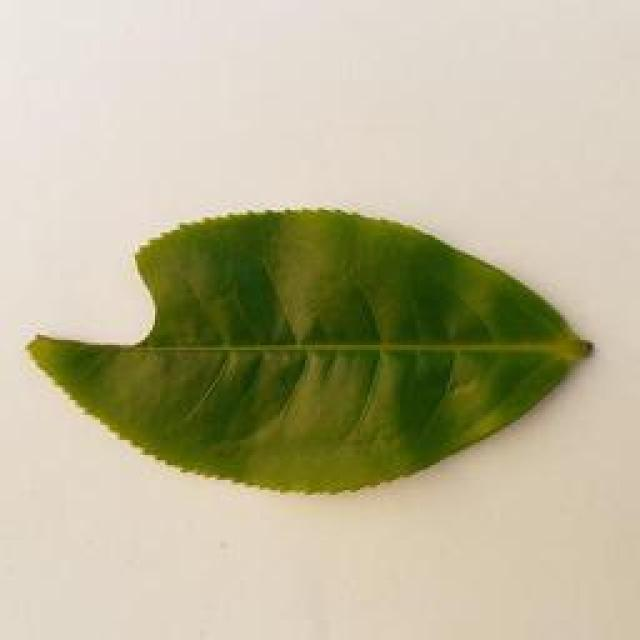Healthy: (24, 201, 612, 498)
